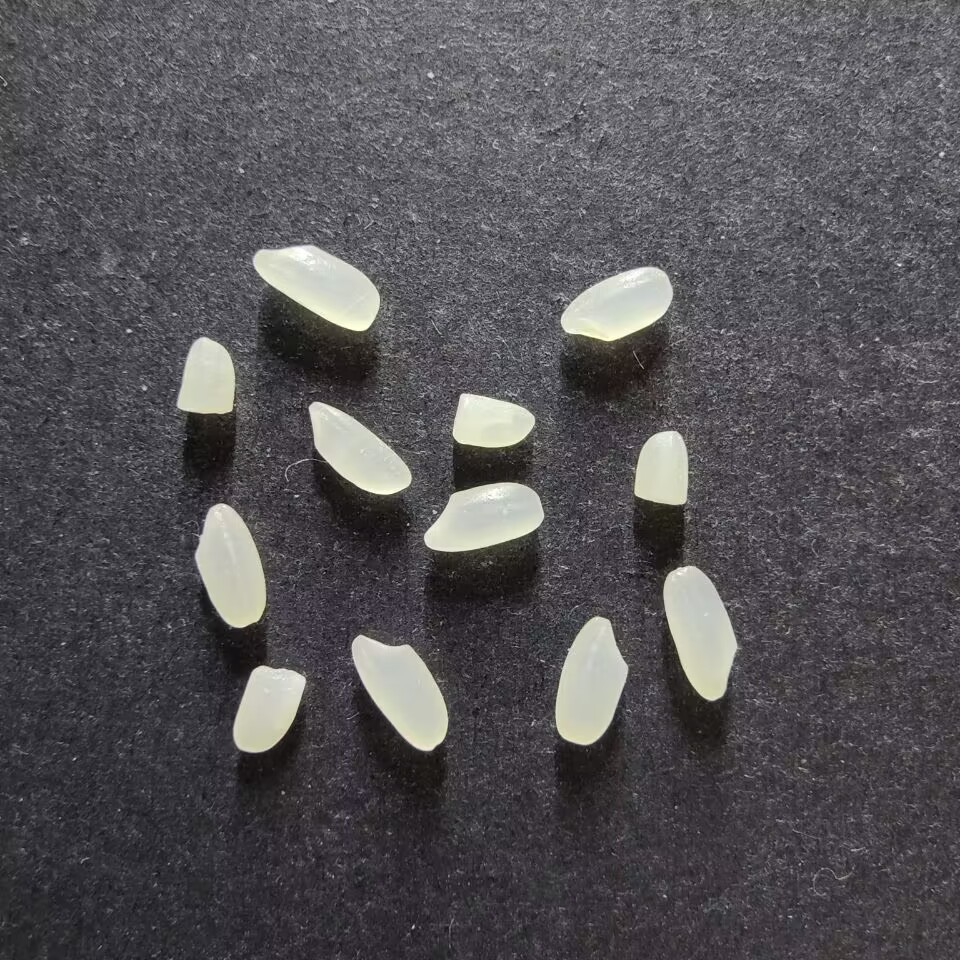broken: (232, 665, 305, 752), (175, 337, 235, 415), (451, 392, 534, 448), (633, 431, 689, 505)
rice: (350, 634, 448, 751), (252, 245, 380, 331), (662, 565, 736, 700), (307, 401, 411, 495), (554, 615, 628, 745), (194, 503, 267, 627), (423, 481, 543, 552), (560, 266, 672, 341)
